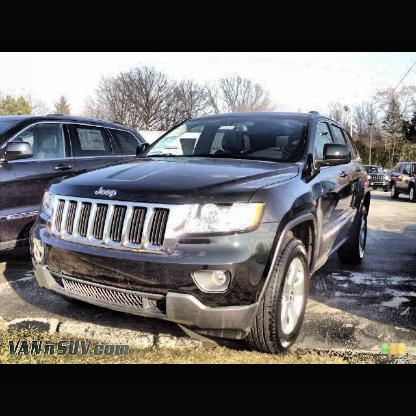Jeep Grand Cherokee SUV 2012: (35, 112, 372, 357)
